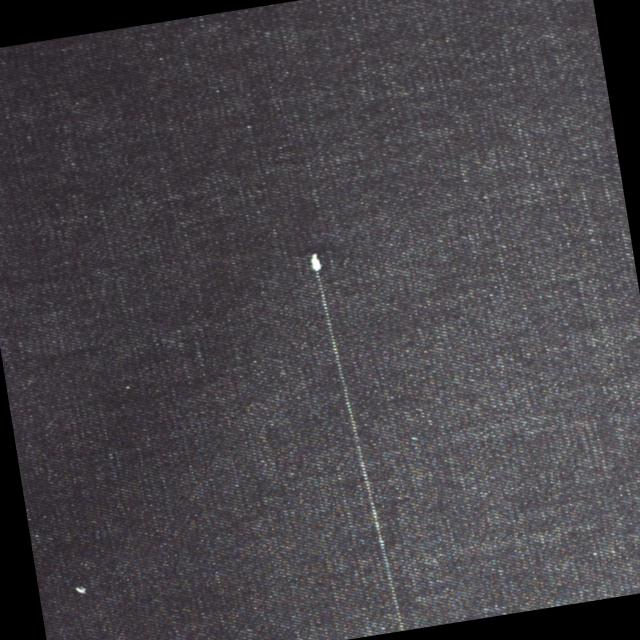Warp_Weft: (301, 240, 418, 638)
